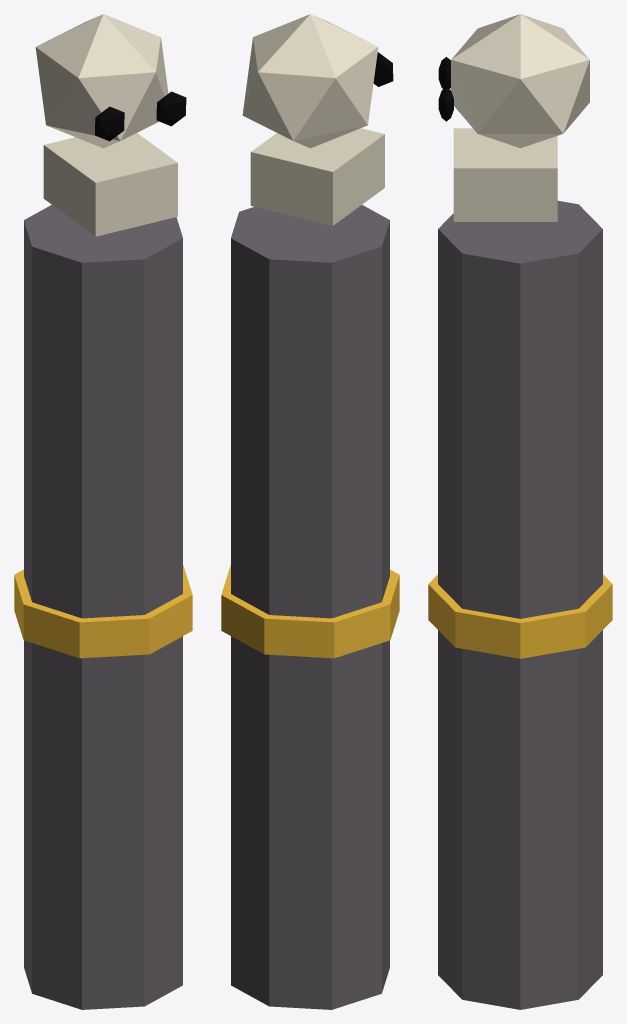
Rendered from Prop_OR_SkullTotem_12.glb.
3 views of the same model, side by side, from view 1: azimuth 30°, elevation 25°; view 2: azimuth 150°, elevation 25°; view 3: azimuth 270°, elevation 25° (orthographic).
Parts seen in each view (by area): view 1: Prop_OR_SkullTotem_12; view 2: Prop_OR_SkullTotem_12; view 3: Prop_OR_SkullTotem_12.
Part boxes in pixels (left/top/right/bottom): Prop_OR_SkullTotem_12: left=14, top=14, right=192, bottom=1009; Prop_OR_SkullTotem_12: left=221, top=14, right=399, bottom=1009; Prop_OR_SkullTotem_12: left=428, top=14, right=612, bottom=1009.
Bounding box in the file's own units: 0.56 × 3.22 × 0.56.
